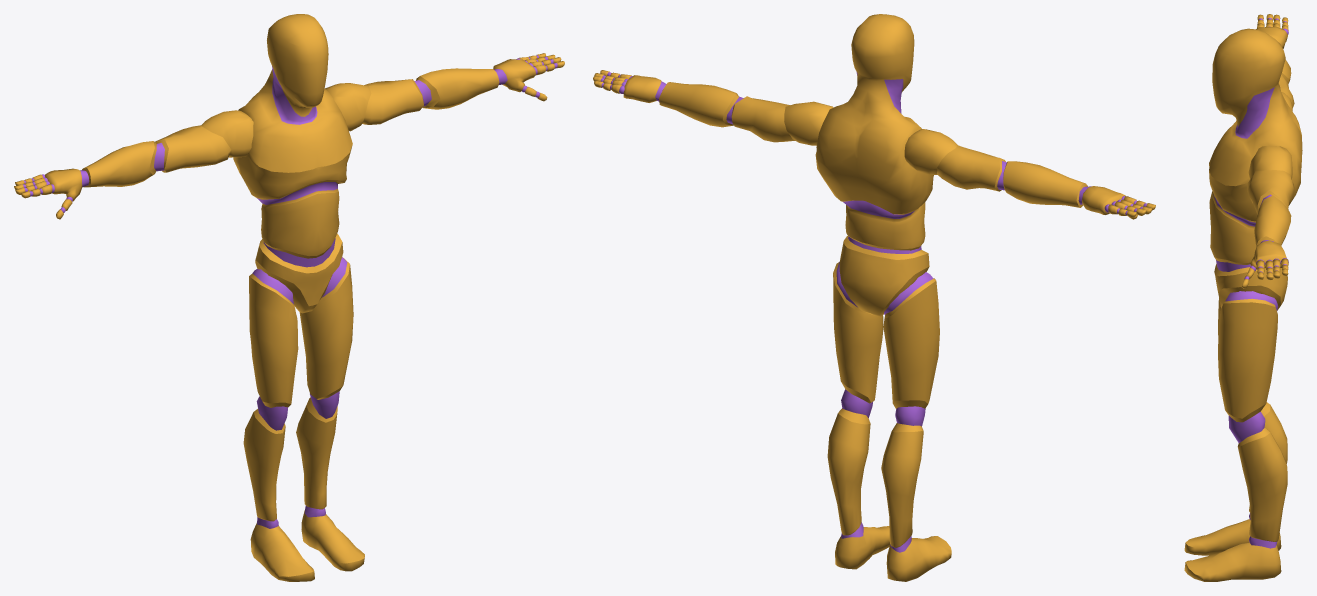
File: mannequin-static.glb
3 renders of one model, left to right at view 1: azimuth 30°, elevation 25°; view 2: azimuth 150°, elevation 25°; view 3: azimuth 270°, elevation 25°, orthographic. The views are drawn at different scales.
Visible parts, largest first — view 1: Mannequin; view 2: Mannequin; view 3: Mannequin.
Part boxes in pixels (x1,y1,x2,y2): Mannequin: (14,14,564,581); Mannequin: (593,14,1155,581); Mannequin: (1184,14,1302,581).
Size of the model in its own units: 1.94 by 1.83 by 0.3696.
